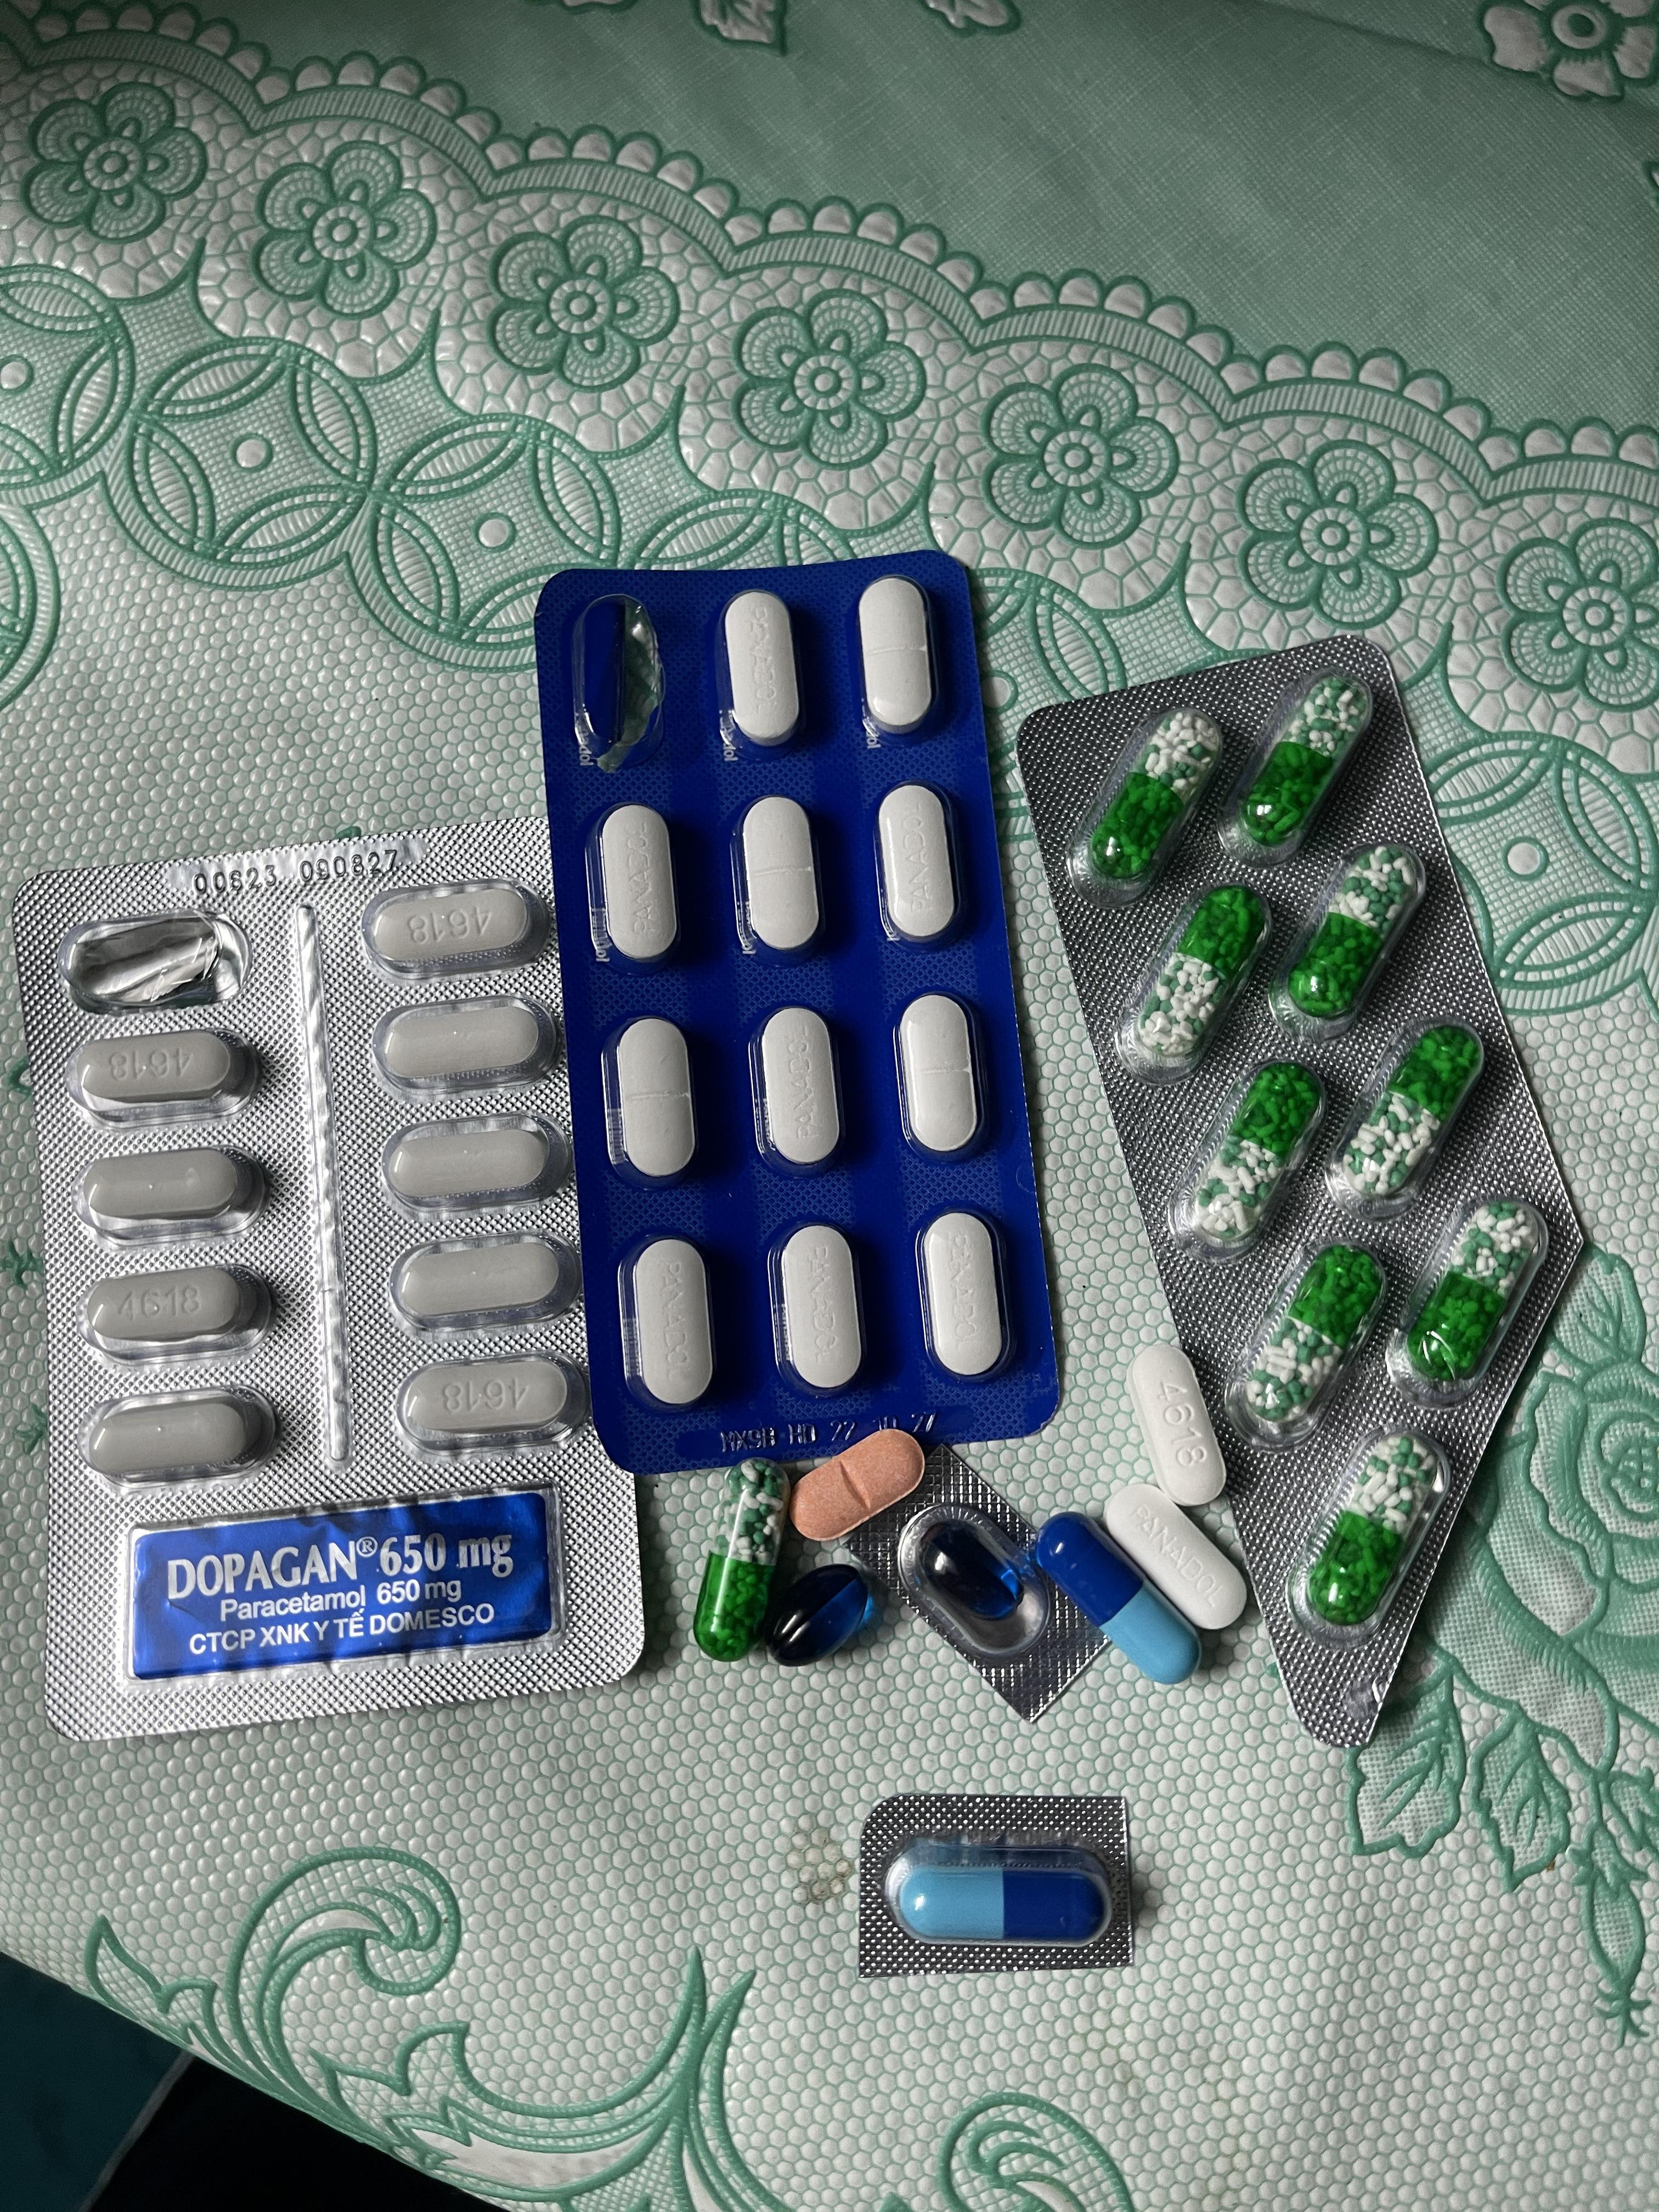Lincomyxin_500mg: (763, 1562, 878, 1669), (922, 1524, 1025, 1622)
Loratadine_10mg: (786, 1428, 922, 1538)
Paracetamol_350mg: (1101, 1486, 1234, 1632), (619, 1238, 720, 1411), (769, 1223, 868, 1397), (751, 1005, 850, 1172), (896, 993, 988, 1163), (920, 1212, 1011, 1381), (610, 1017, 699, 1186), (875, 784, 964, 946), (591, 806, 681, 961), (739, 798, 824, 960), (721, 592, 802, 749), (857, 577, 936, 735)
Paracetamol_500mg: (78, 1383, 279, 1486), (396, 1353, 587, 1456), (77, 1261, 274, 1360), (64, 1031, 258, 1129), (77, 1144, 270, 1242), (389, 1233, 575, 1334), (371, 996, 554, 1099), (361, 878, 545, 979), (383, 1116, 565, 1216), (1129, 1346, 1229, 1505)
Paracetamol_650mg: (1274, 845, 1432, 1047), (1401, 1198, 1542, 1383), (1243, 1247, 1384, 1430), (1131, 888, 1269, 1073), (1337, 1031, 1481, 1204), (1305, 1433, 1434, 1625), (1234, 678, 1371, 852), (1084, 711, 1216, 885), (1192, 1068, 1323, 1242), (694, 1460, 791, 1660)
pill: (1037, 1510, 1201, 1684), (882, 1836, 1117, 1947)
